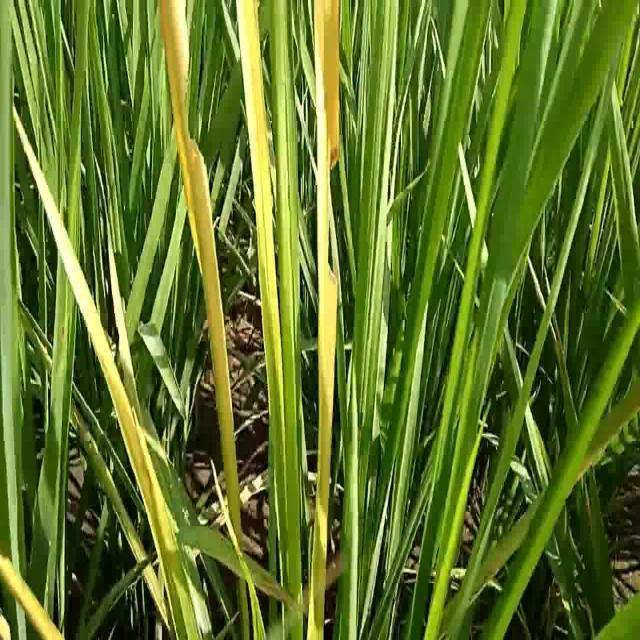Rice Tungro: (10, 102, 172, 542), (156, 2, 246, 481), (234, 2, 290, 430), (307, 1, 343, 472), (1, 553, 63, 640)
